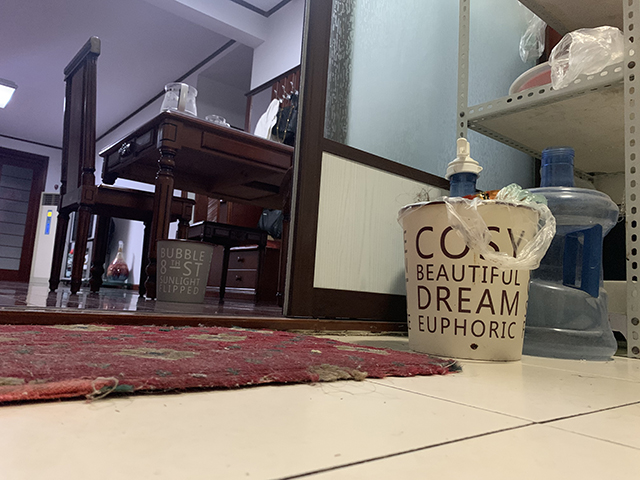carpet: (1, 322, 465, 408)
stool: (46, 33, 198, 300), (176, 190, 269, 302)
table: (86, 109, 296, 302)
trashcan: (397, 195, 543, 363), (155, 238, 216, 303)
